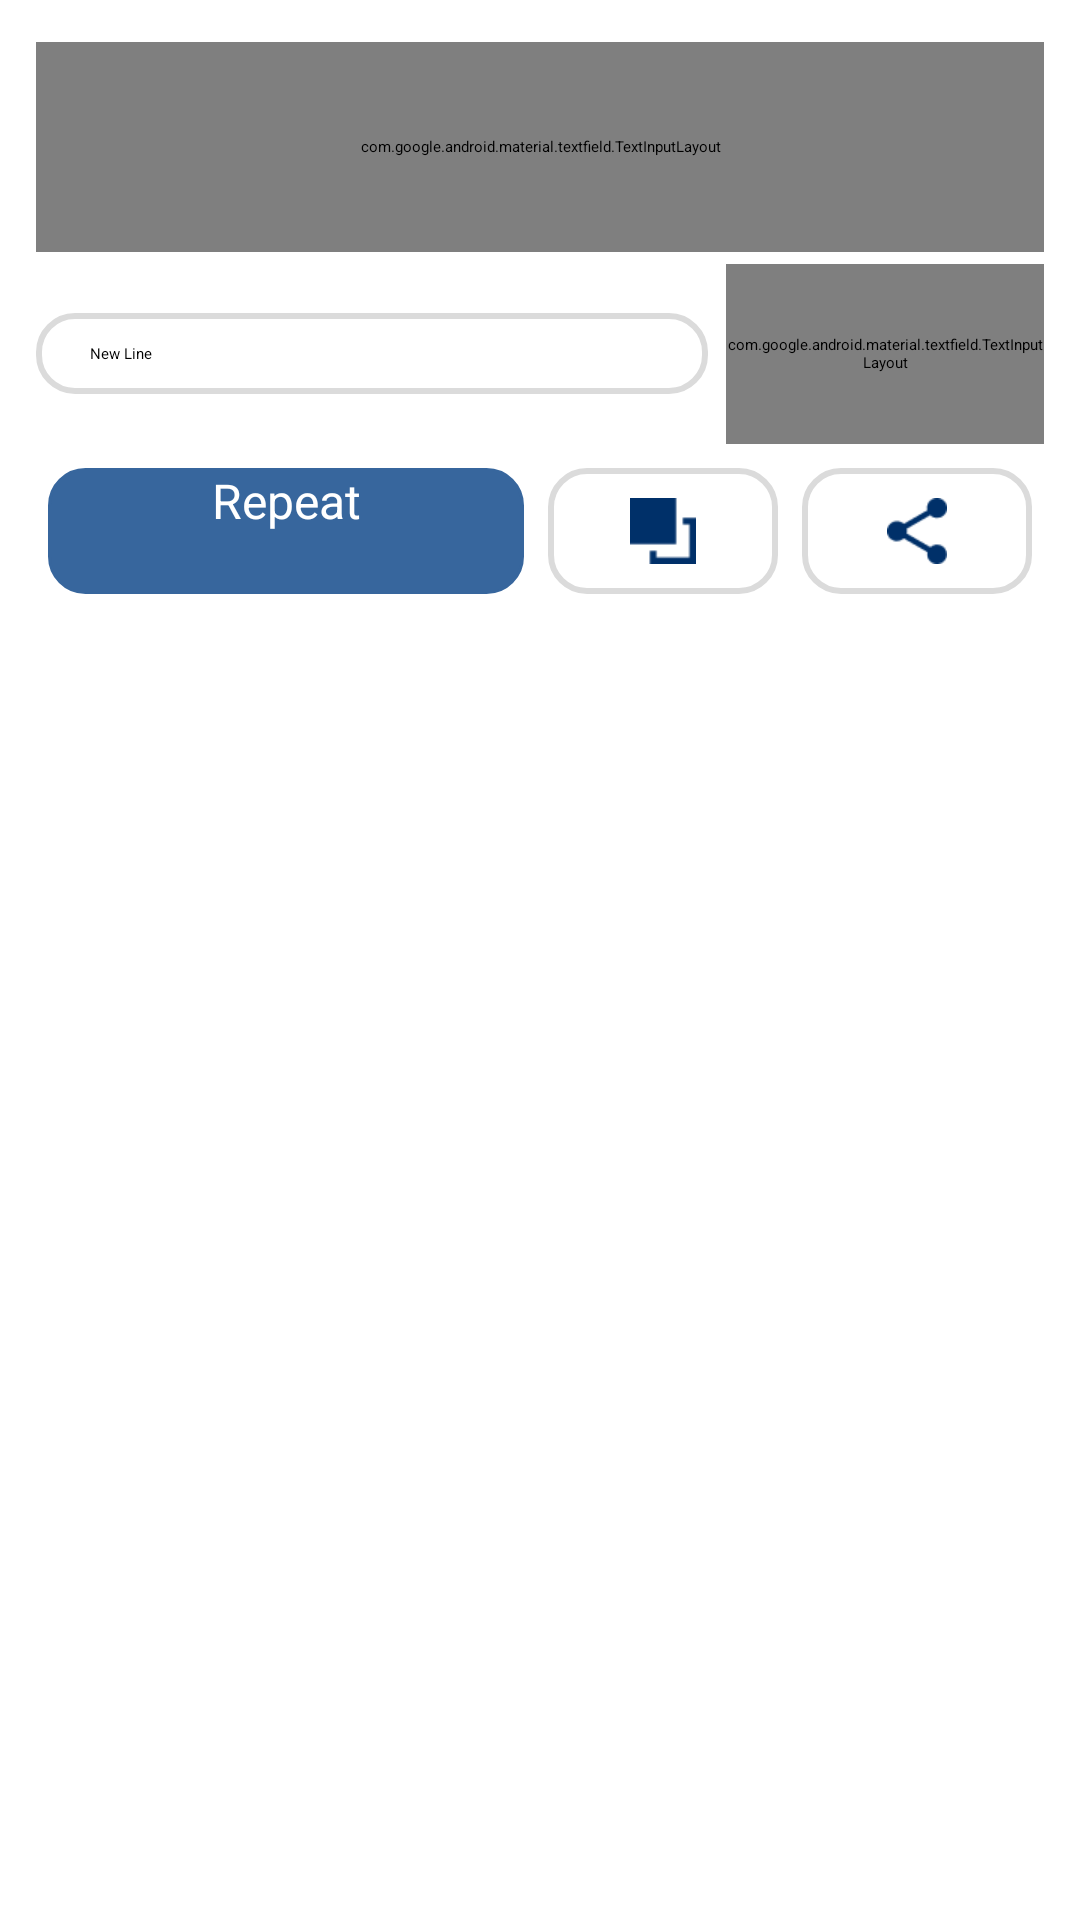

Icons on this 1080×1920 Android screen, each with the point to tap as [x,y]:
share: [917,531]
